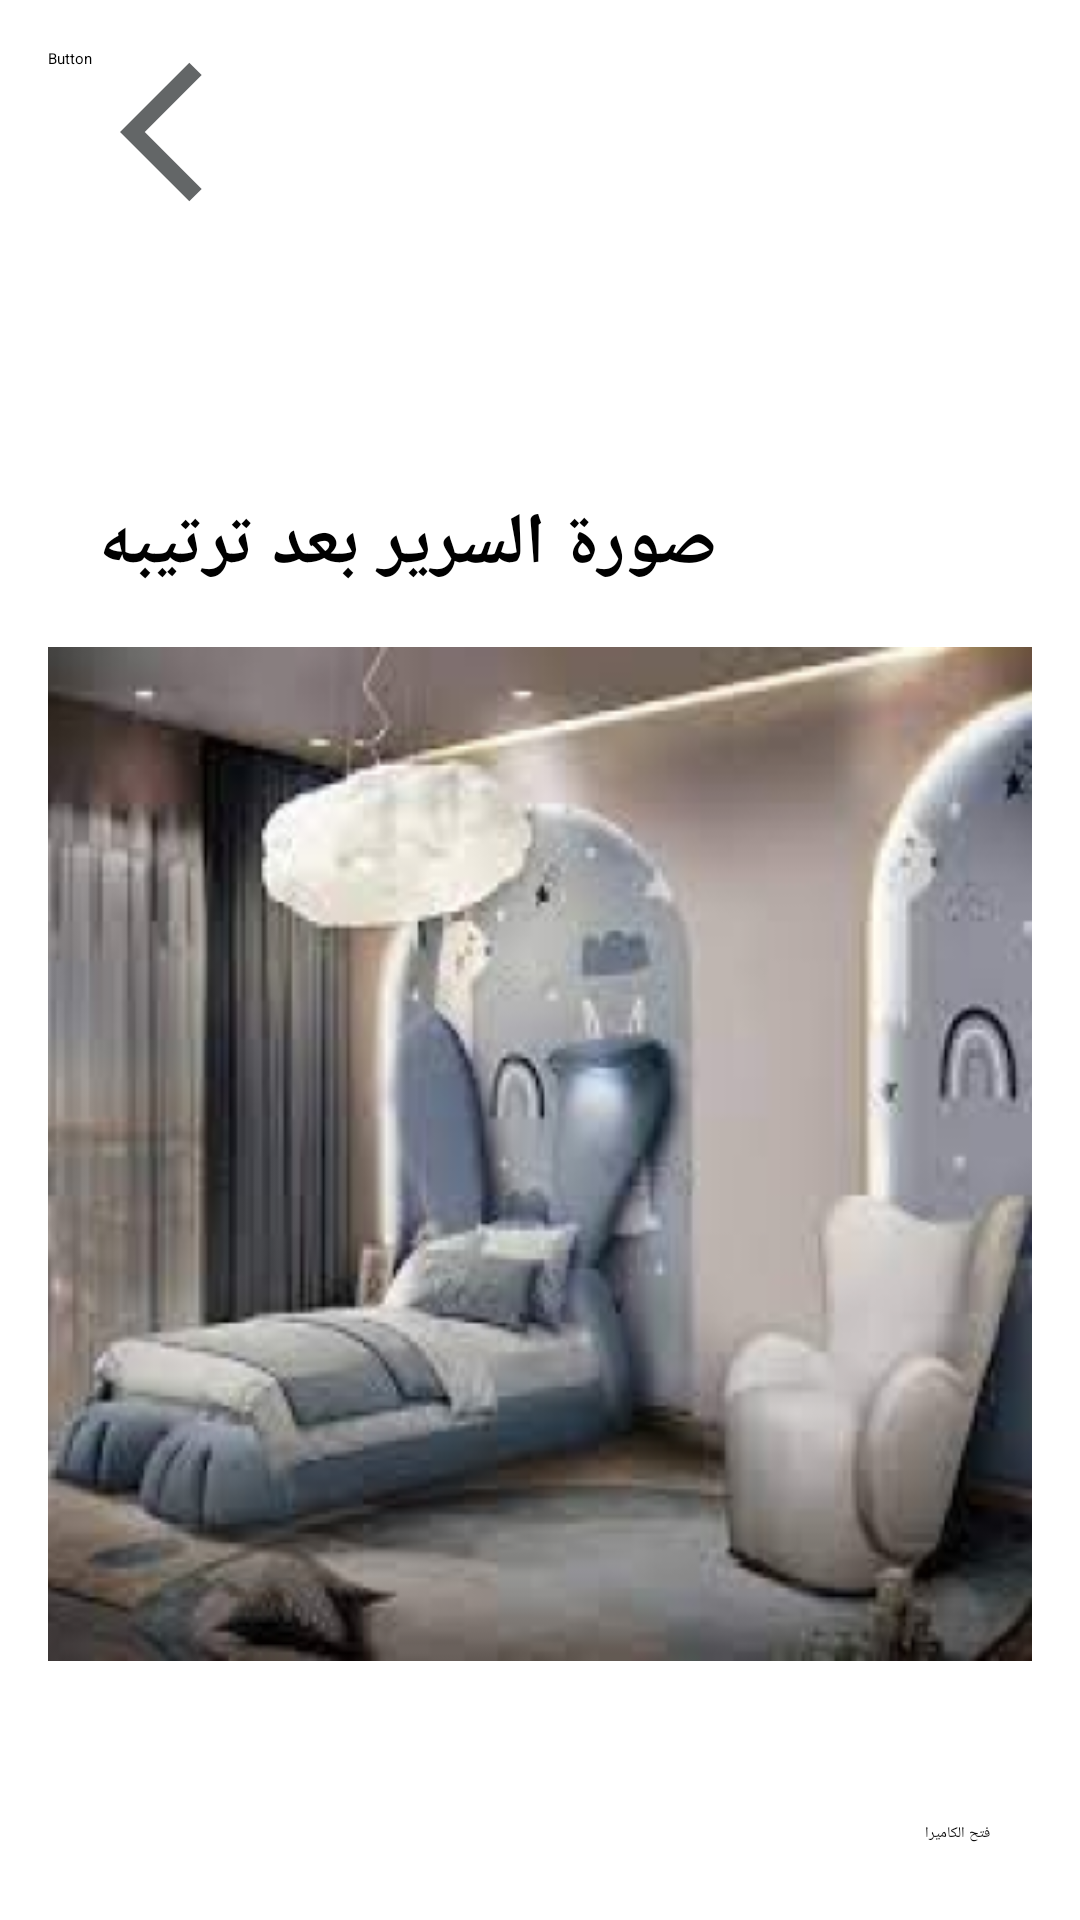

Where to tap for icons on this 1080 x 1920 app screen, as point (x, y):
back: point (143, 128)
